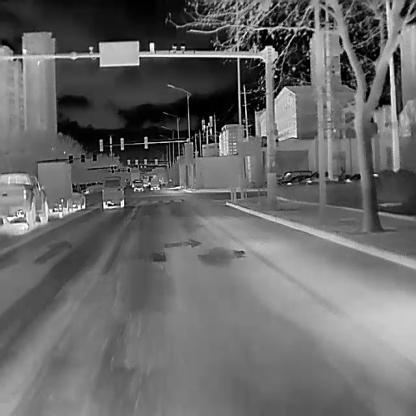car: (0, 171, 48, 234), (36, 161, 72, 217), (101, 176, 124, 210), (299, 170, 341, 184), (276, 169, 312, 185), (148, 176, 160, 190), (133, 178, 143, 192)
